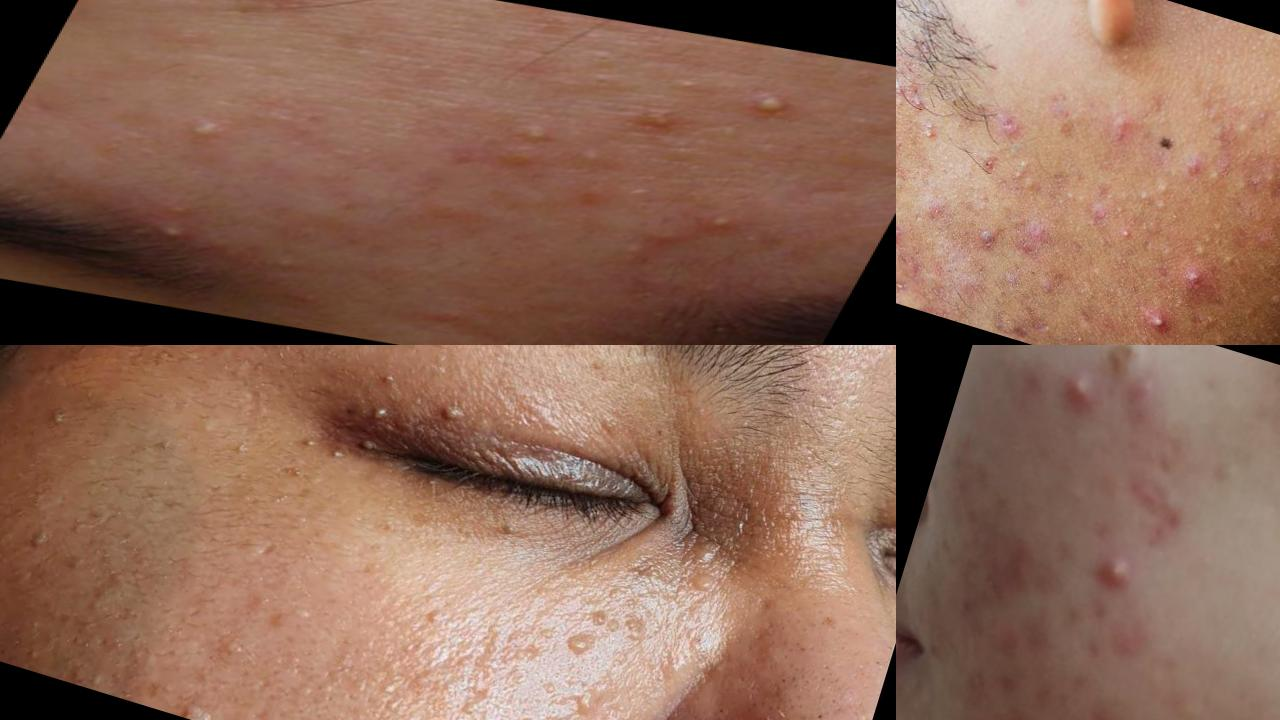acne_scars: (980, 538, 1045, 598), (1094, 618, 1156, 678), (1090, 346, 1148, 392), (977, 615, 1029, 663), (988, 661, 1042, 707)
blackhead: (780, 627, 824, 684), (569, 68, 634, 98), (659, 72, 711, 103), (576, 44, 621, 71), (802, 705, 835, 720)
flat_wart: (552, 589, 678, 694), (293, 640, 387, 720), (462, 611, 557, 685), (217, 629, 275, 679), (565, 680, 621, 720), (176, 697, 242, 720)
milium: (12, 507, 65, 572), (353, 383, 405, 434), (226, 438, 260, 475), (296, 432, 319, 462)
papular: (1113, 463, 1199, 551), (1173, 154, 1211, 193)
purulent: (1077, 541, 1153, 615), (732, 78, 824, 129), (1050, 366, 1108, 431), (164, 111, 247, 149), (621, 101, 701, 139), (143, 215, 208, 250), (1134, 297, 1179, 346), (564, 139, 626, 171), (687, 208, 748, 239), (508, 119, 563, 151), (974, 225, 1011, 260), (1175, 262, 1210, 297), (897, 229, 908, 264)
syringoma: (666, 484, 761, 622)
whitehead: (1202, 451, 1251, 508), (1133, 176, 1183, 217), (909, 114, 951, 159), (1228, 112, 1273, 152), (1006, 149, 1044, 194), (1198, 219, 1232, 258), (1202, 164, 1231, 205), (1109, 212, 1139, 246), (1261, 285, 1280, 315)
